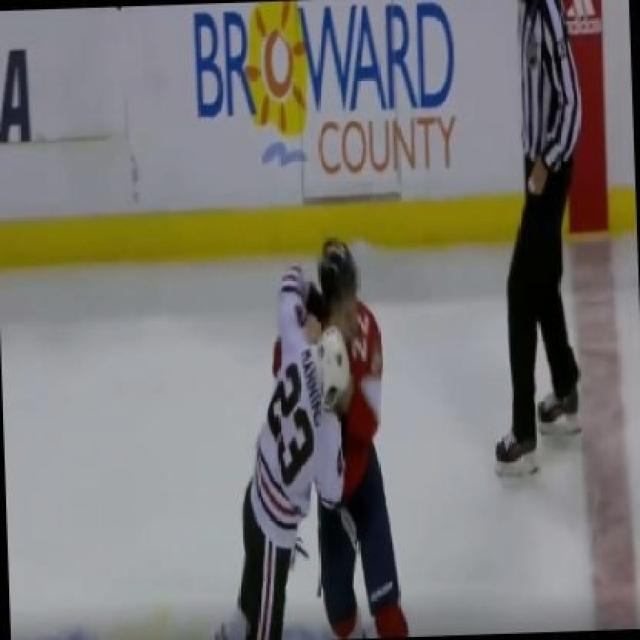fight: (206, 225, 419, 637)
non-fight: (460, 0, 617, 466)
